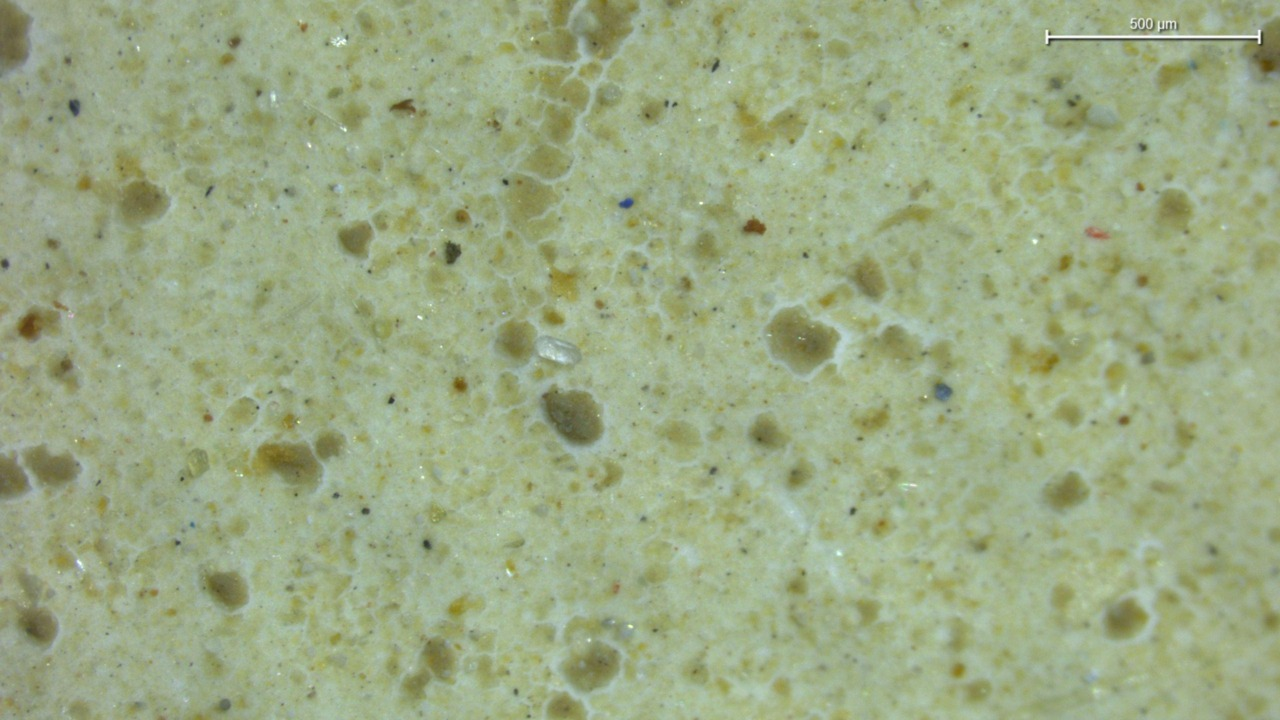microplastic_fragment: (535, 335, 582, 364)
